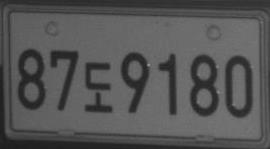0: (224, 54, 254, 118)
1: (154, 52, 183, 115)
7: (48, 49, 79, 110)
8: (188, 53, 219, 117), (16, 47, 46, 111)
9: (120, 51, 149, 114)
도: (83, 61, 113, 112)
